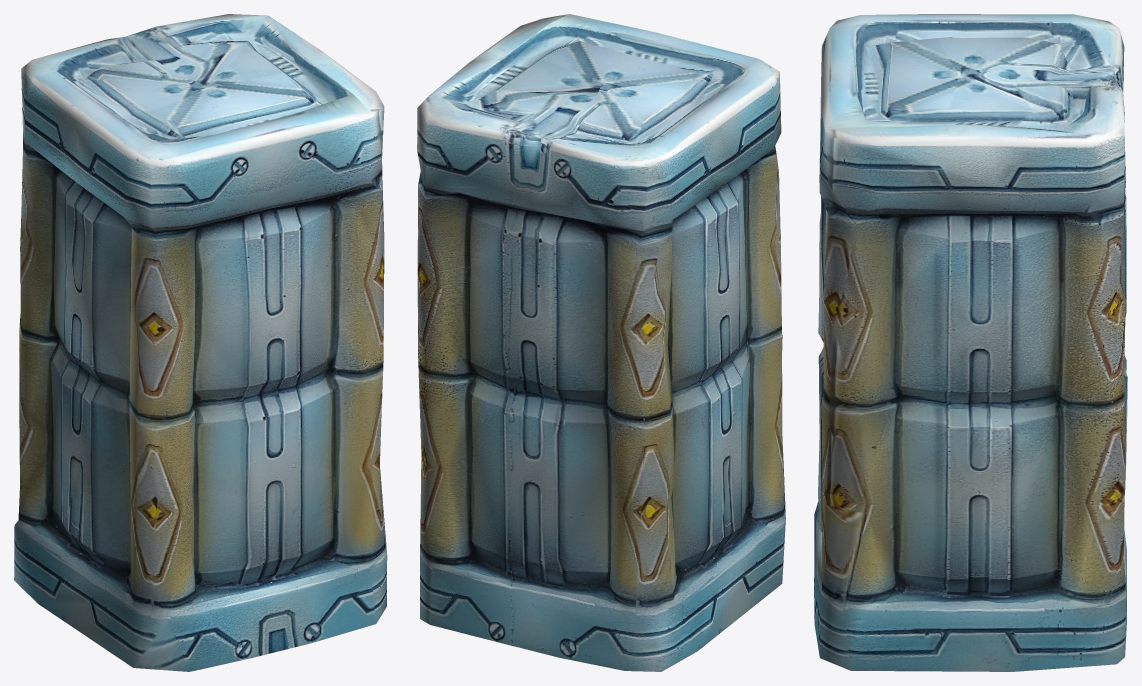
Rendered from silo-size-3.glb.
The picture shows the model from 3 angles, left to right: view 1: azimuth 30°, elevation 25°; view 2: azimuth 150°, elevation 25°; view 3: azimuth 270°, elevation 25°; orthographic projection. The views are drawn at different scales.
Visible parts, largest first — view 1: Silo; view 2: Silo; view 3: Silo.
Boxes of the visible parts, bbox=[...] form: Silo: bbox=[14, 14, 387, 671]; Silo: bbox=[417, 14, 785, 671]; Silo: bbox=[814, 14, 1127, 671].
Size of the model in its own units: 2.27 by 4.32 by 2.29.
Materials: 1 (1 with a texture image).
